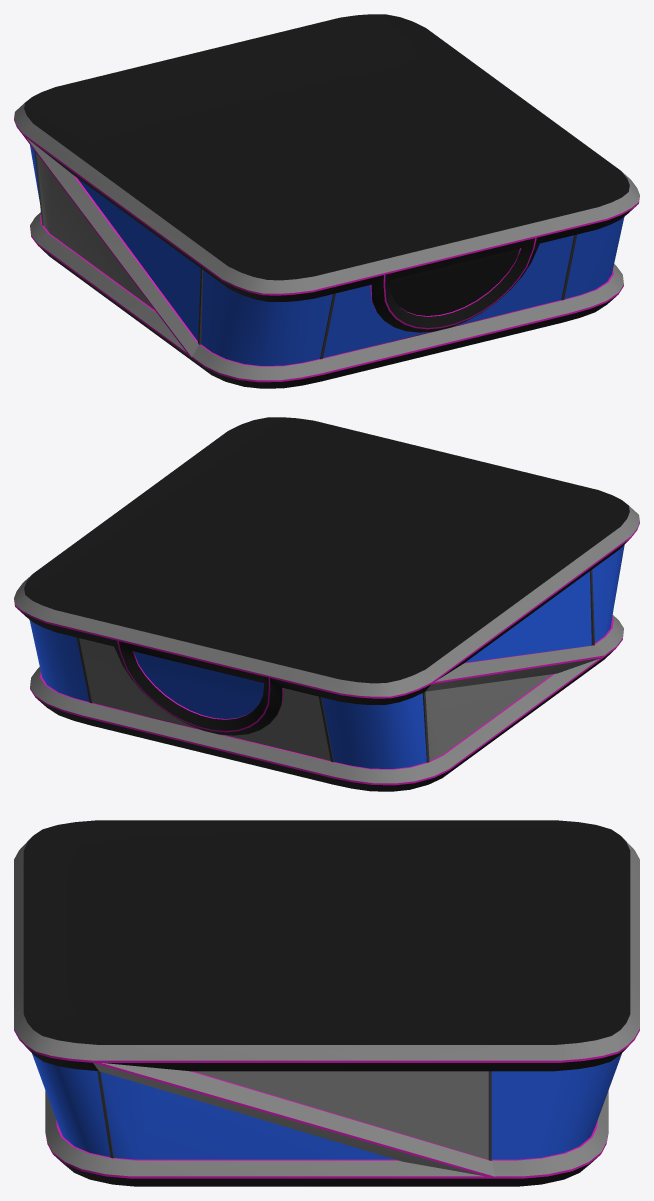
Rendered from SM_Building_Middle_MK4.fbx.
3 renders of one model, top to bottom at view 1: azimuth 30°, elevation 25°; view 2: azimuth 150°, elevation 25°; view 3: azimuth 270°, elevation 25°, orthographic. The views are drawn at different scales.
Visible parts, largest first — view 1: SM_Building_Middle_MK4; view 2: SM_Building_Middle_MK4; view 3: SM_Building_Middle_MK4.
Part boxes in pixels (<box>): SM_Building_Middle_MK4: <box>14,14,639,388</box>; SM_Building_Middle_MK4: <box>14,417,639,791</box>; SM_Building_Middle_MK4: <box>14,820,639,1186</box>.
Bounding box in the file's own units: 1791 × 500 × 2000.
